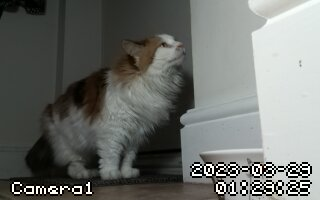clara: (23, 37, 190, 176)
